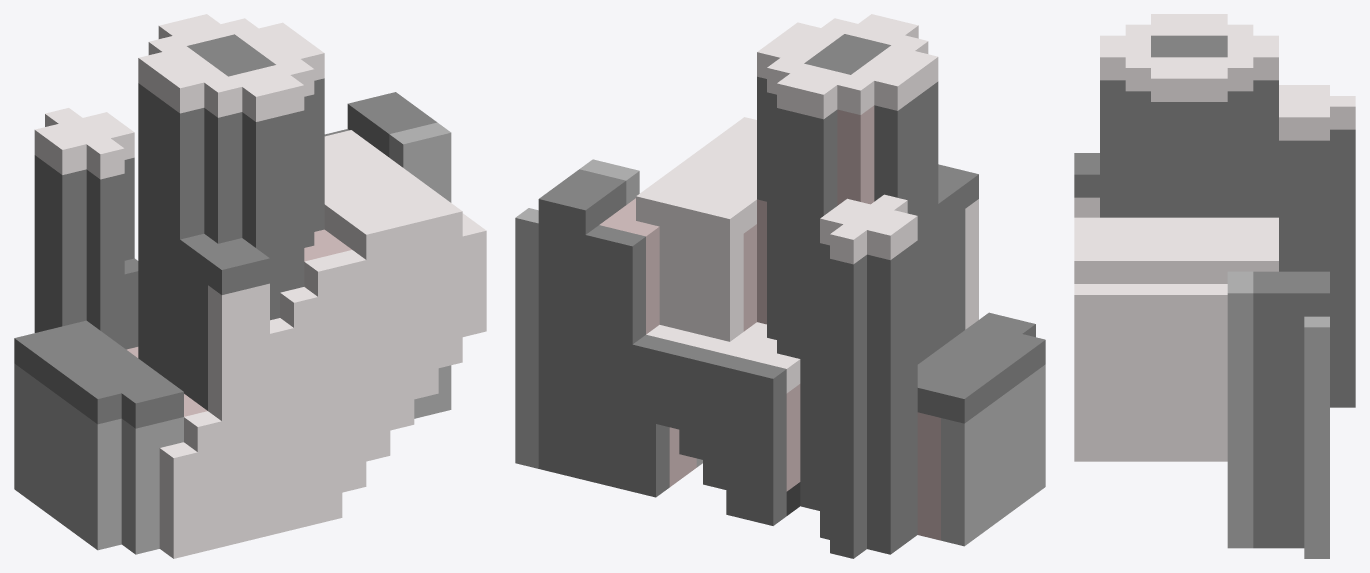
File: factory.obj
The picture shows the model from 3 angles, left to right: view 1: azimuth 30°, elevation 25°; view 2: azimuth 150°, elevation 25°; view 3: azimuth 270°, elevation 25°; orthographic projection. The views are drawn at different scales.
Parts seen in each view (by area): view 1: ObjObject; view 2: ObjObject; view 3: ObjObject.
Part boxes in pixels (box(x1,y1,x2,y2)): ObjObject: box(14, 14, 486, 558); ObjObject: box(515, 14, 1045, 558); ObjObject: box(1074, 14, 1355, 558).
Size of the model in its own units: 1.8 by 1.7 by 1.1.
1 material, 1 textured.
